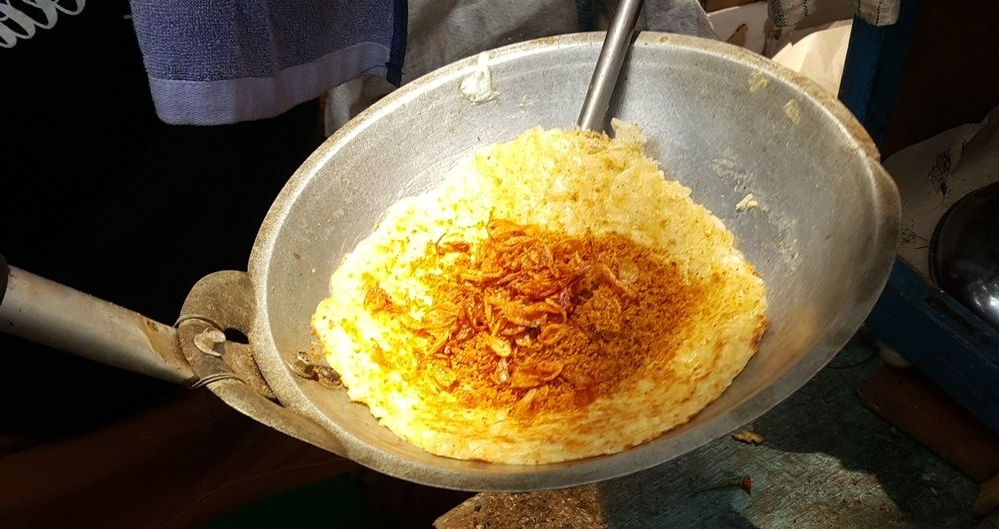kerak_telor: (310, 127, 768, 465)
